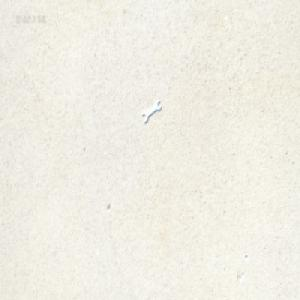Wrench: (141, 101, 162, 124)
